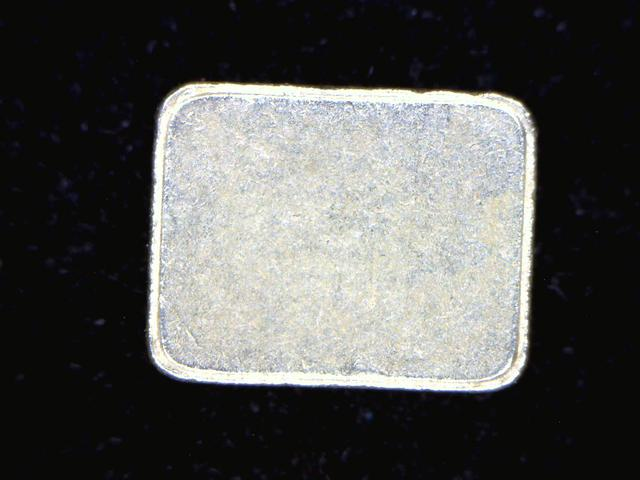nok: (140, 74, 539, 395)
